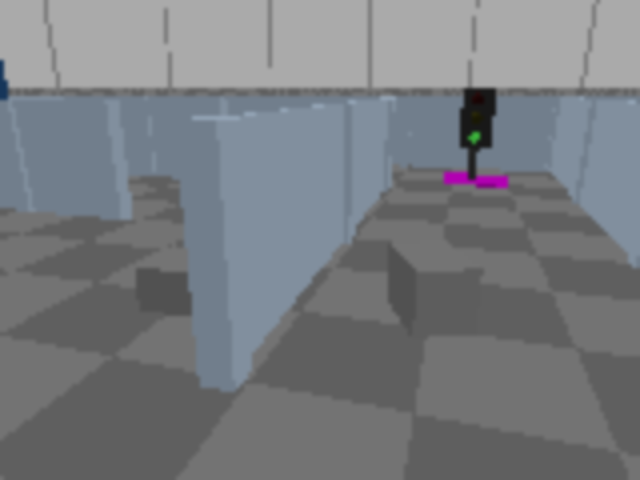goal_zone: (442, 173, 510, 188)
obstacle: (134, 246, 232, 319)
person: (0, 0, 13, 184)
